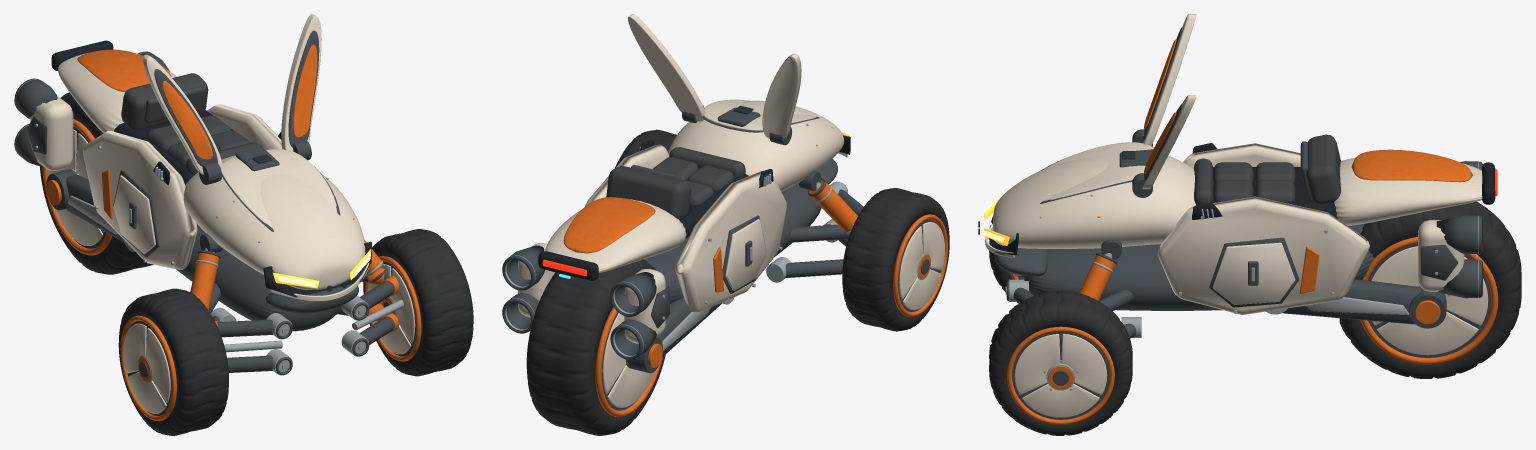
Rendered from RabbitBike.glb.
The picture shows the model from 3 angles, left to right: view 1: azimuth 30°, elevation 25°; view 2: azimuth 150°, elevation 25°; view 3: azimuth 270°, elevation 25°; orthographic projection. The views are drawn at different scales.
Parts seen in each view (by area): view 1: RB_Front_Cowl, RB_Body_Panels, RB_Tire_Front_L, RB_Tire_Front_R, RB_Ears, RB_Saddle, RB_Suspension_L, RB_Rear_Cowl, RB_Wheel_Front_L, RB_Rear_Modules, RB_Frame, RB_Body_Details (+8 smaller); view 2: RB_Tire_Rear, RB_Tire_Front_L, RB_Body_Panels, RB_Front_Cowl, RB_Rear_Modules, RB_Rear_Cowl, RB_Saddle, RB_Ears, RB_Wheel_Front_L, RB_Suspension_L, RB_Wheel_Rear, RB_Body_Details (+6 smaller); view 3: RB_Front_Cowl, RB_Body_Panels, RB_Tire_Rear, RB_Tire_Front_R, RB_Rear_Cowl, RB_Wheel_Front_R, RB_Wheel_Rear, RB_Saddle, RB_Frame, RB_Body_Details, RB_Rear_Modules, RB_Rear_Swingarm (+4 smaller).
Part boxes in pixels (x1,y1,x2,y2): RB_Front_Cowl: (183,149,365,289); RB_Body_Panels: (83,104,282,269); RB_Tire_Front_L: (118,288,228,435); RB_Tire_Front_R: (363,229,473,376); RB_Ears: (143,14,321,184); RB_Saddle: (114,73,262,184); RB_Suspension_L: (190,233,292,375); RB_Rear_Cowl: (58,49,176,133); RB_Wheel_Front_L: (120,315,176,421); RB_Rear_Modules: (14,51,170,170); RB_Frame: (176,223,341,331); RB_Body_Details: (94,132,354,264); RB_Tire_Rear: (526,259,665,435); RB_Tire_Front_L: (842,188,949,331); RB_Body_Panels: (585,144,786,312); RB_Front_Cowl: (668,99,844,191); RB_Rear_Modules: (502,243,669,359); RB_Rear_Cowl: (545,197,686,273); RB_Saddle: (606,147,748,238); RB_Ears: (627,14,801,145); RB_Wheel_Front_L: (893,214,947,316); RB_Suspension_L: (766,170,863,282); RB_Wheel_Rear: (595,307,663,417); RB_Body_Details: (639,124,833,304); RB_Front_Cowl: (993,142,1195,248); RB_Body_Panels: (1158,143,1369,314); RB_Tire_Rear: (1339,201,1521,378); RB_Tire_Front_R: (989,291,1132,435); RB_Rear_Cowl: (1334,149,1482,225); RB_Wheel_Front_R: (1007,326,1114,424); RB_Wheel_Rear: (1361,237,1498,364); RB_Saddle: (1194,134,1341,218); RB_Frame: (1023,224,1374,310); RB_Body_Details: (1039,143,1334,313); RB_Rear_Modules: (1418,161,1482,298); RB_Rear_Swingarm: (1265,279,1446,328).
Size of the model in its own units: 1.6 by 1.57 by 2.46.
Materials: 12 (12 with a texture image).
